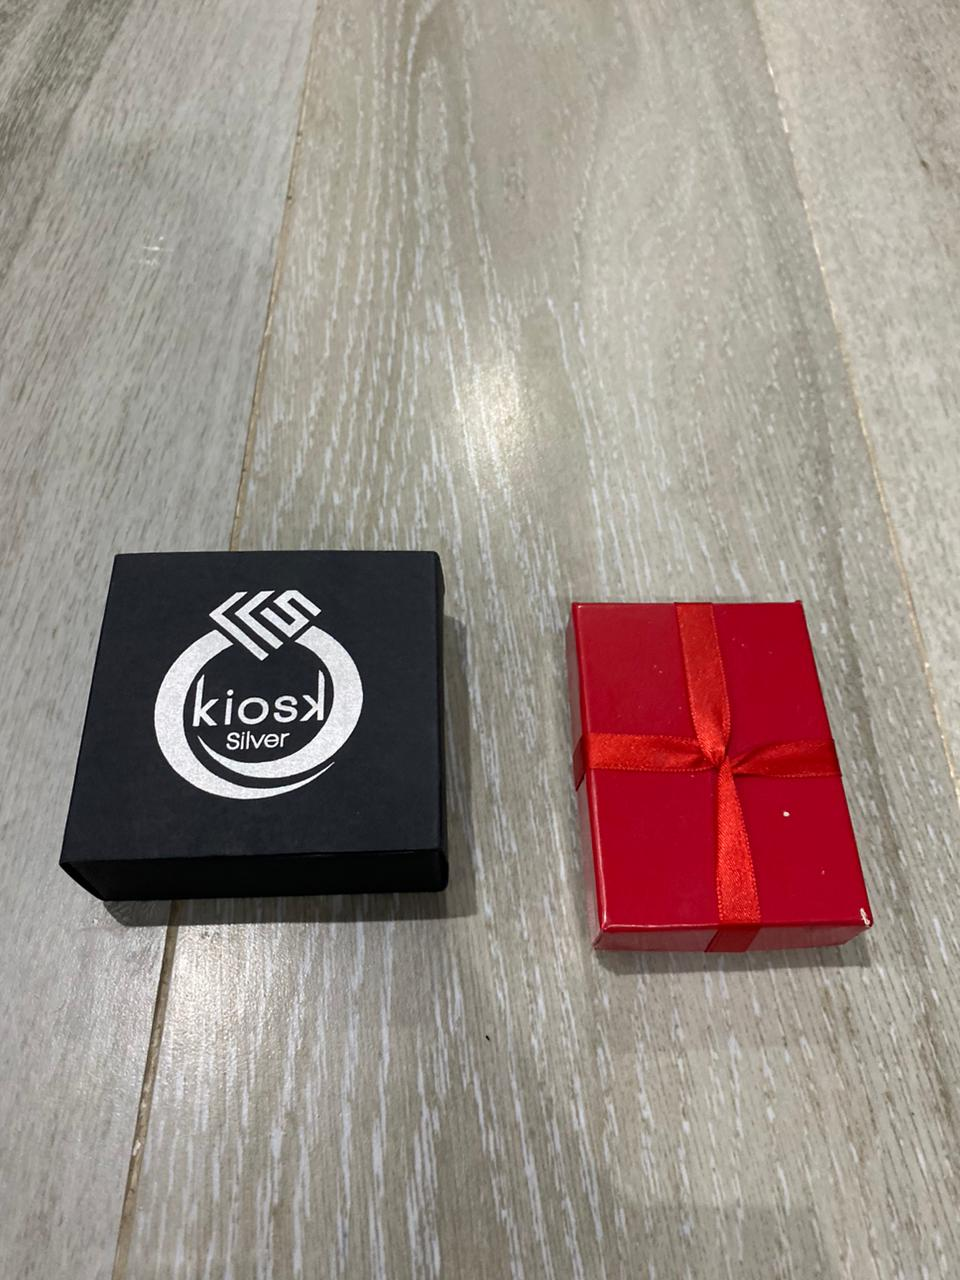Black Box: (560, 593, 880, 963)
Red Box: (61, 545, 451, 911)
